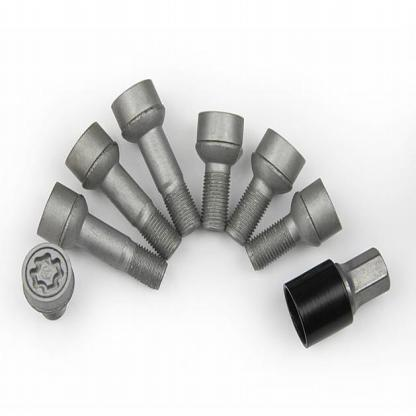FOD: (63, 120, 183, 261), (35, 180, 169, 293), (111, 77, 201, 240), (223, 126, 307, 250), (242, 174, 343, 274), (194, 109, 246, 236), (20, 244, 75, 324)
